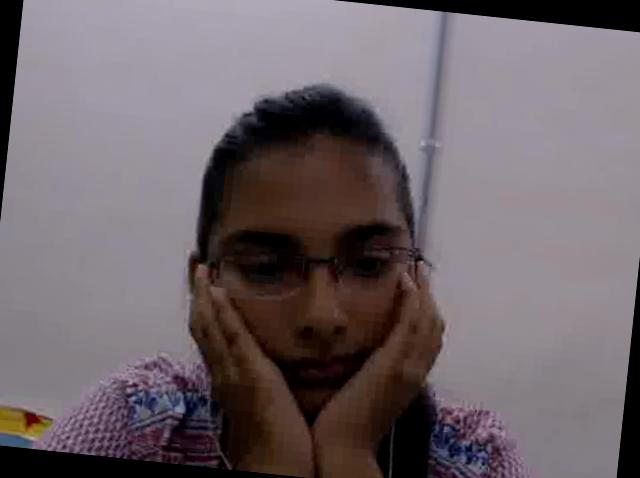bosan: (194, 138, 420, 426)
